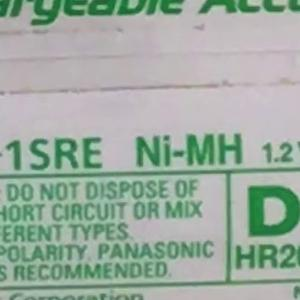NI-MH: (114, 126, 245, 184)
